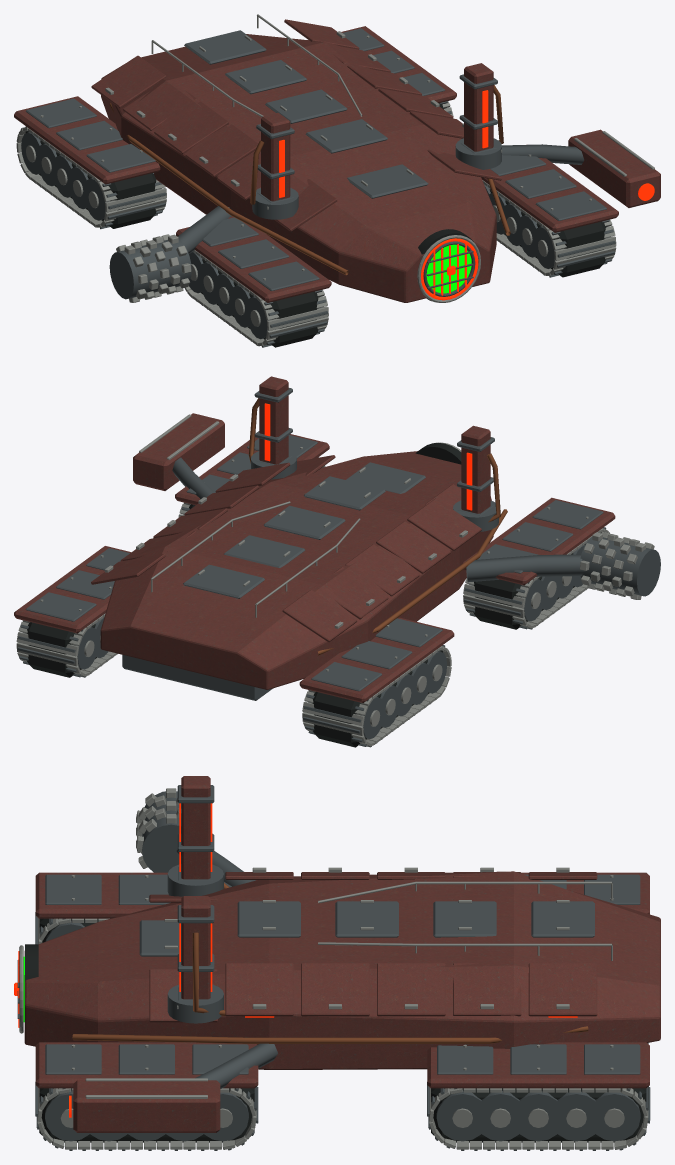
Rendered from margin_warden.glb.
3 views of the same model, one above another, from view 1: azimuth 30°, elevation 25°; view 2: azimuth 150°, elevation 25°; view 3: azimuth 270°, elevation 25° (orthographic). The views are drawn at different scales.
Visible parts, largest first — view 1: Warden_Warden oxidized armor, Warden_Warden graphite steel, Warden_Warden worn machined edges, Warden_Warden track recess, Warden_Cutter_Axis_Warden graphite steel, Warden_Warden hydraulic copper, Warden_Cutter_Axis_Warden worn machined edges, Warden_Captive public liquidity #00FF00, Warden_Warden hostile #FF2200, Warden_Core_Containment_Warden hostile #FF2200; view 2: Warden_Warden oxidized armor, Warden_Warden graphite steel, Warden_Warden worn machined edges, Warden_Warden track recess, Warden_Cutter_Axis_Warden graphite steel, Warden_Cutter_Axis_Warden worn machined edges, Warden_Warden hydraulic copper; view 3: Warden_Warden oxidized armor, Warden_Warden graphite steel, Warden_Warden worn machined edges, Warden_Warden hydraulic copper, Warden_Warden track recess, Warden_Cutter_Axis_Warden graphite steel, Warden_Cutter_Axis_Warden worn machined edges.
Part boxes in pixels (x1,y1,x2,y2): Warden_Warden oxidized armor: [14, 19, 660, 302]; Warden_Warden graphite steel: [20, 28, 615, 347]; Warden_Warden worn machined edges: [16, 14, 654, 346]; Warden_Warden track recess: [25, 103, 606, 347]; Warden_Cutter_Axis_Warden graphite steel: [109, 239, 191, 299]; Warden_Warden hydraulic copper: [109, 85, 510, 275]; Warden_Cutter_Axis_Warden worn machined edges: [116, 234, 191, 302]; Warden_Captive public liquidity #00FF00: [426, 244, 471, 293]; Warden_Warden hostile #FF2200: [421, 183, 654, 300]; Warden_Core_Containment_Warden hostile #FF2200: [433, 242, 466, 297]; Warden_Warden oxidized armor: [14, 376, 615, 702]; Warden_Warden graphite steel: [17, 388, 606, 747]; Warden_Warden worn machined edges: [16, 414, 609, 746]; Warden_Warden track recess: [26, 442, 601, 747]; Warden_Cutter_Axis_Warden graphite steel: [580, 537, 660, 596]; Warden_Cutter_Axis_Warden worn machined edges: [579, 532, 654, 599]; Warden_Warden hydraulic copper: [248, 398, 507, 655]; Warden_Warden oxidized armor: [24, 776, 660, 1132]; Warden_Warden graphite steel: [35, 785, 650, 1150]; Warden_Warden worn machined edges: [19, 867, 648, 1149]; Warden_Warden hydraulic copper: [72, 883, 588, 1043]; Warden_Warden track recess: [25, 918, 646, 1142]; Warden_Cutter_Axis_Warden graphite steel: [142, 791, 181, 872]; Warden_Cutter_Axis_Warden worn machined edges: [136, 788, 181, 868].
Bounding box in the file's own units: 28.55 × 9.4 × 26.43.
Materials: 7 (1 with a texture image).
